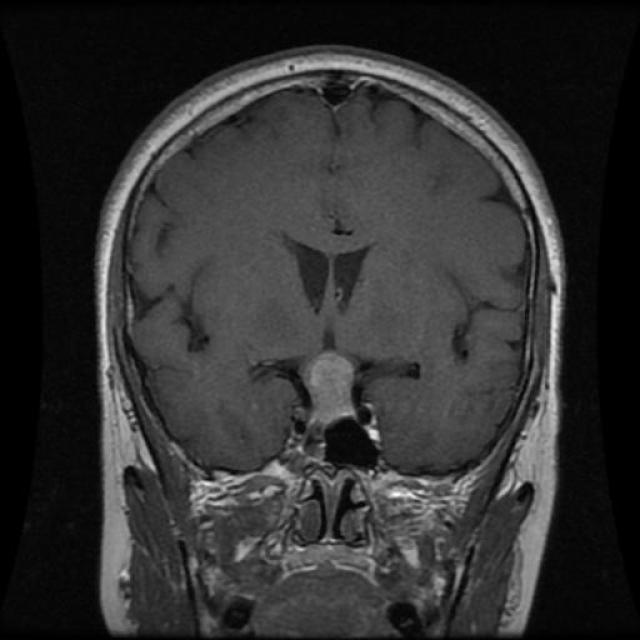pituitary: (296, 348, 383, 446)
